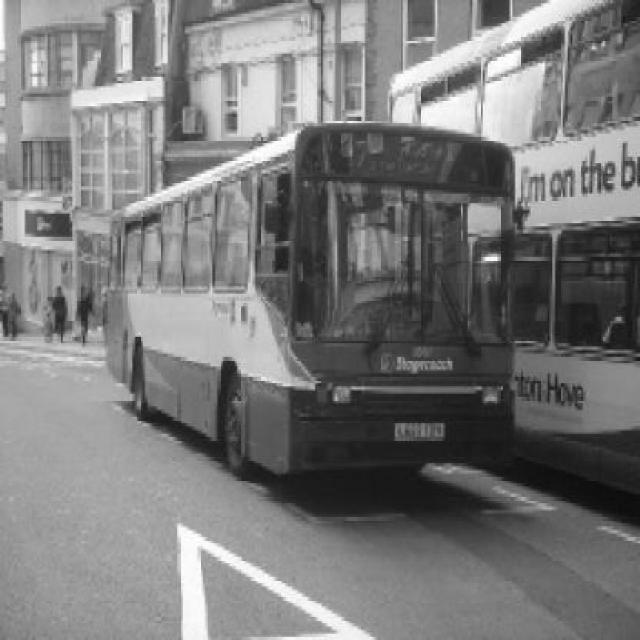Bus: (102, 122, 517, 480)
